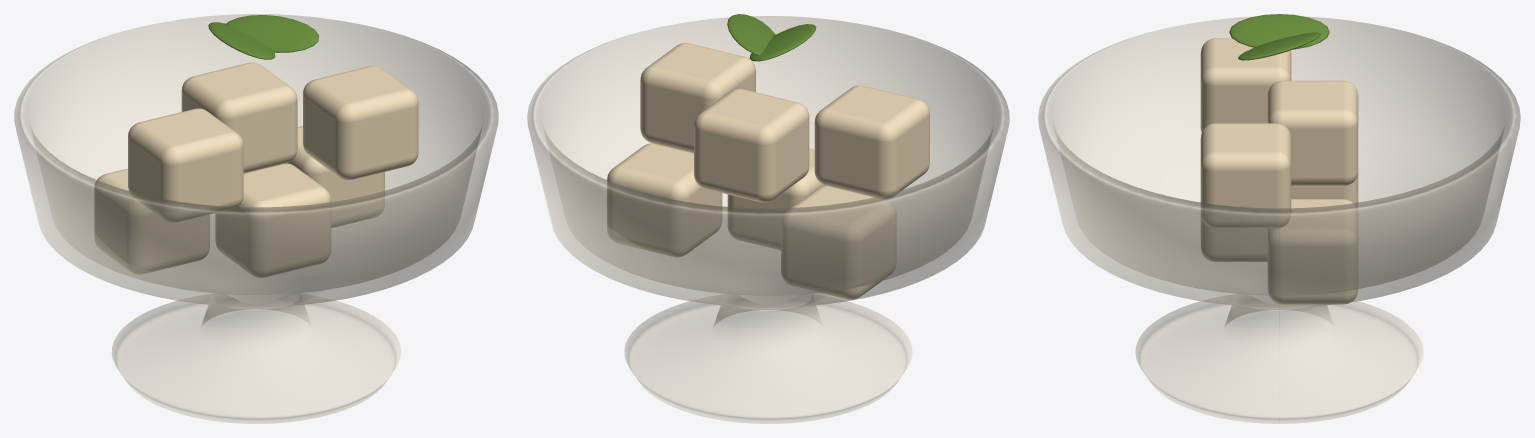
The model's file is 18-pear-jelly.glb.
3 views of the same model, side by side, from view 1: azimuth 30°, elevation 25°; view 2: azimuth 150°, elevation 25°; view 3: azimuth 270°, elevation 25° (orthographic).
Visible parts, largest first — view 1: 배 젤리; view 2: 배 젤리; view 3: 배 젤리.
Boxes of the visible parts, box(x1,y1,x2,y2) form: 배 젤리: box(14, 14, 498, 423); 배 젤리: box(527, 14, 1009, 423); 배 젤리: box(1038, 14, 1520, 423).
Size of the model in its own units: 1.44 by 1.11 by 1.44.
